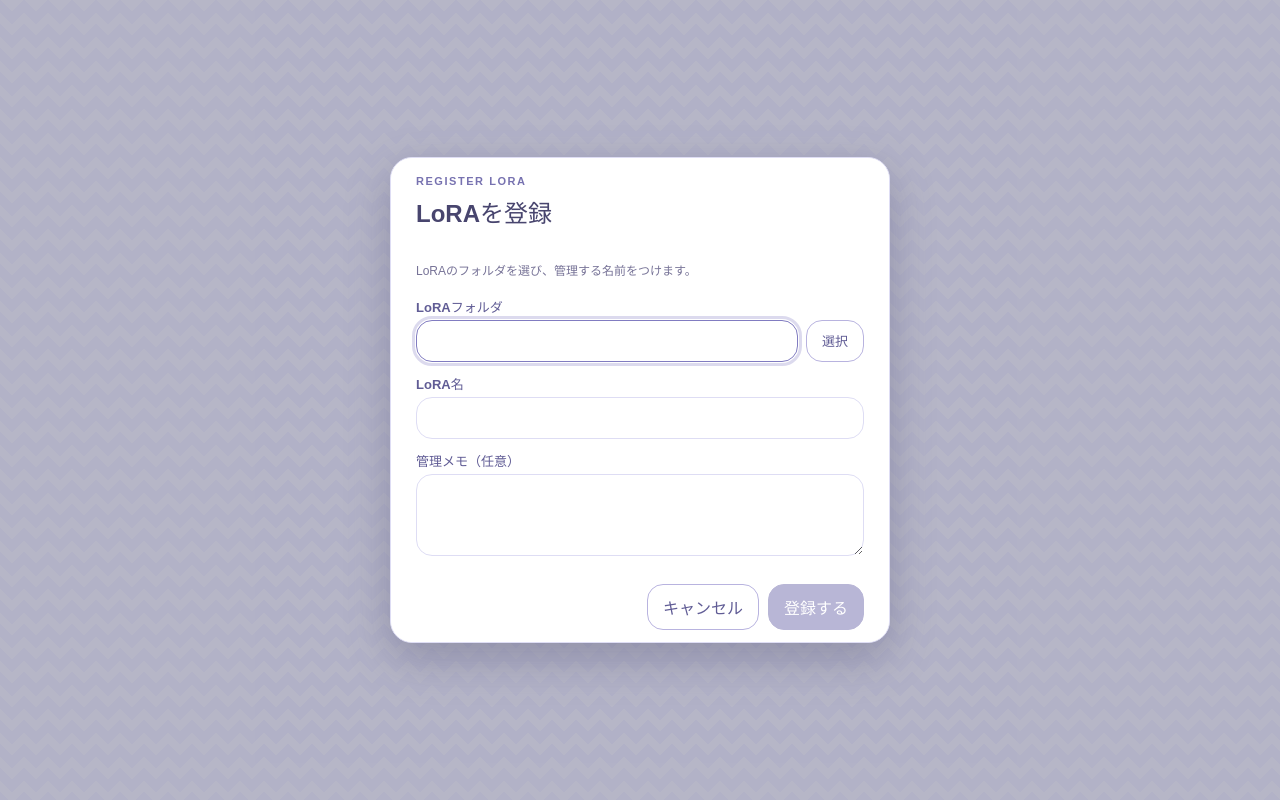
Test: keeps drafts after validation failure and permits cancellation or retry
The width and height of the screenshot is (1280, 800).
Type "/local/adapter" into the field labelled "LoRAフォルダ" at [607, 341], box [416,320,798,362]
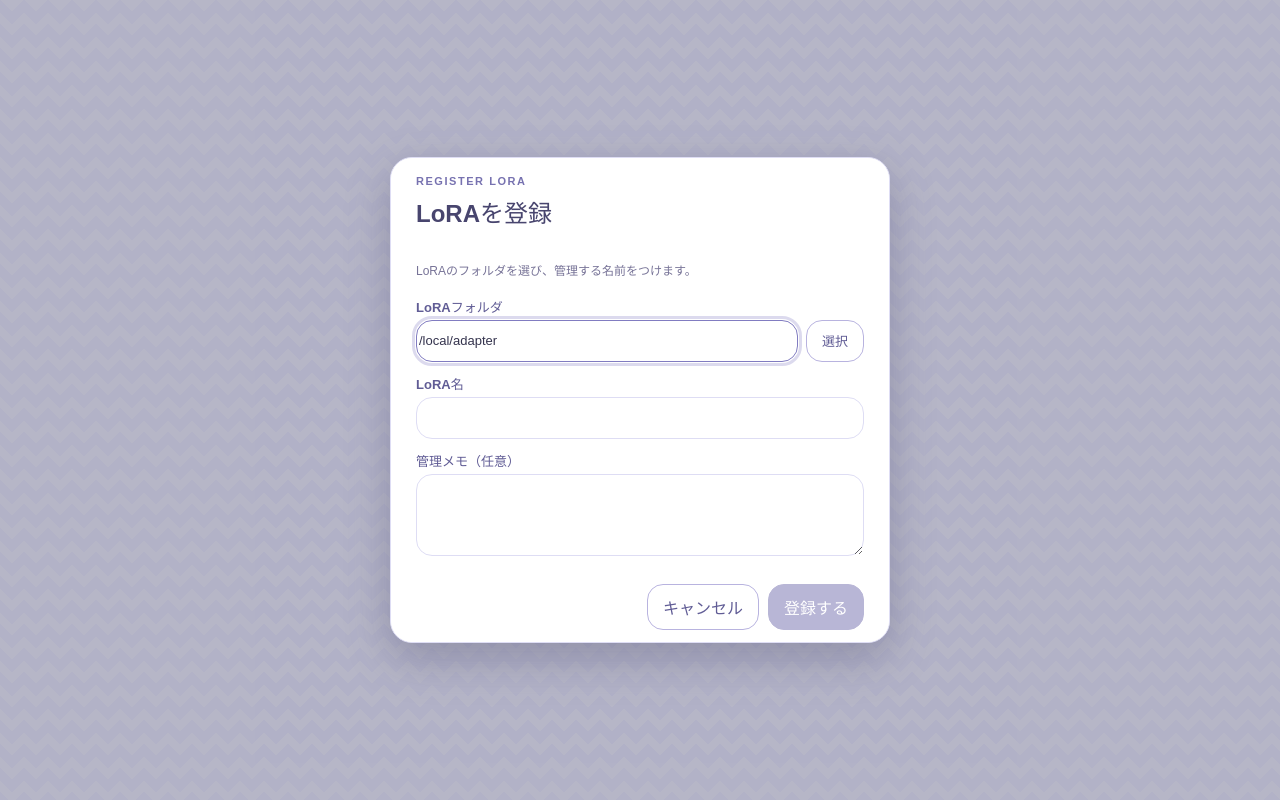
Type "声" into the field labelled "LoRA名" at [640, 418], box [416,397,864,439]
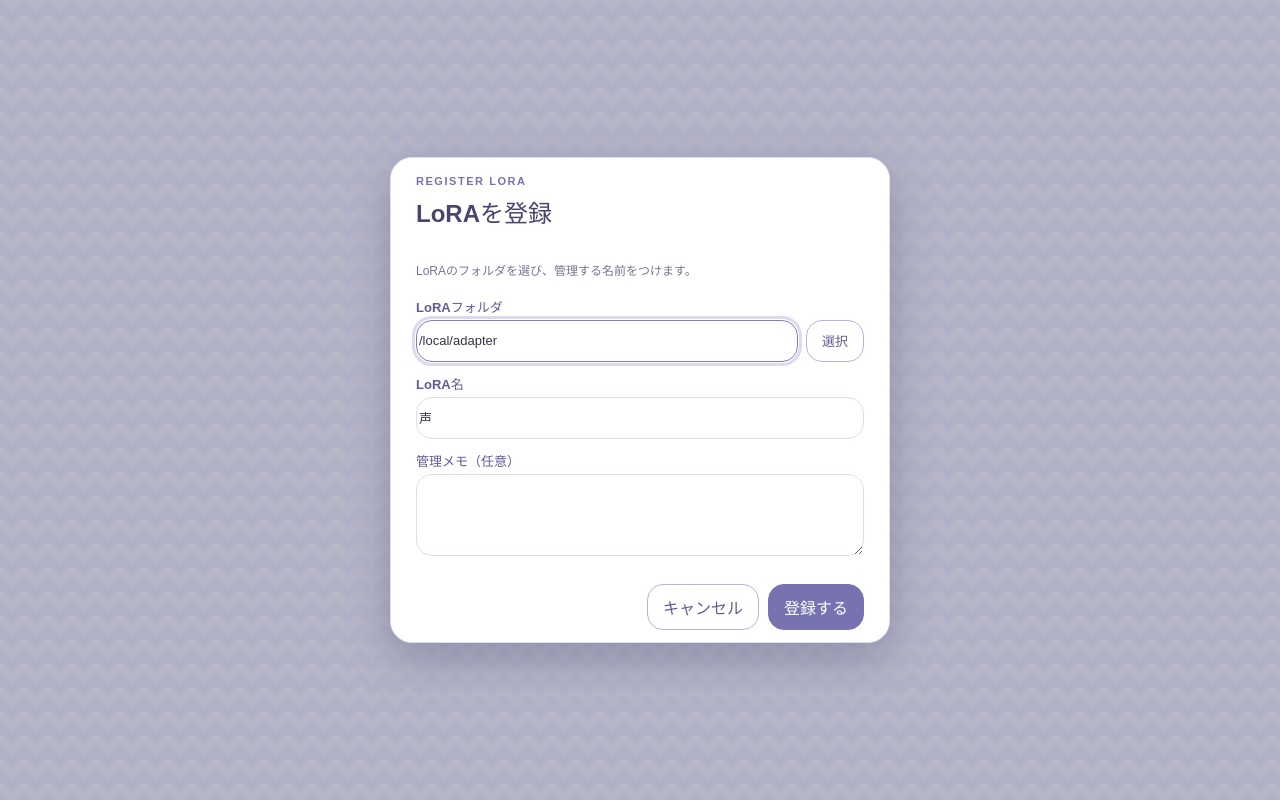
Click the button "登録する" at [816, 607], box [768,584,864,630]
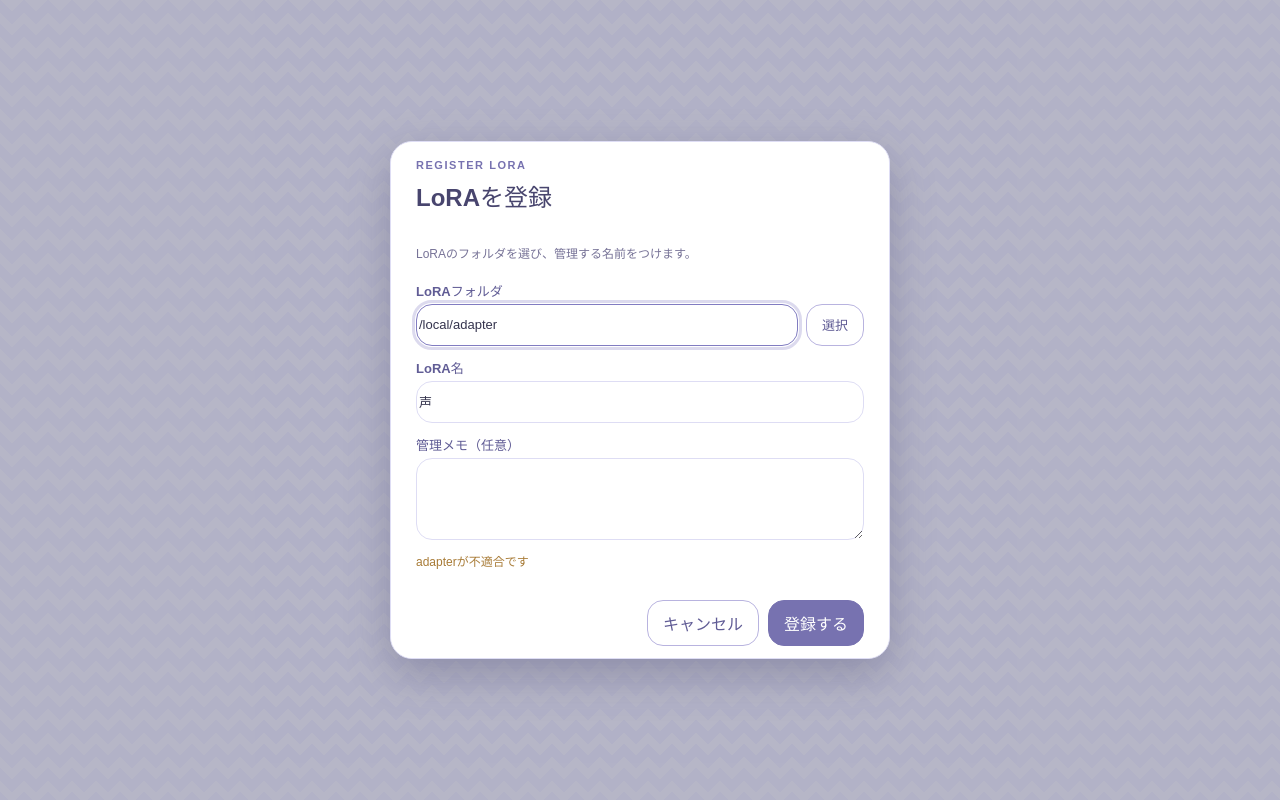
Check: the button "キャンセル" is enabled, box [647,600,759,646]
Check: the message shows "不適合", box [416,555,529,569]
Click the button "登録する" at [816, 623], box [768,600,864,646]
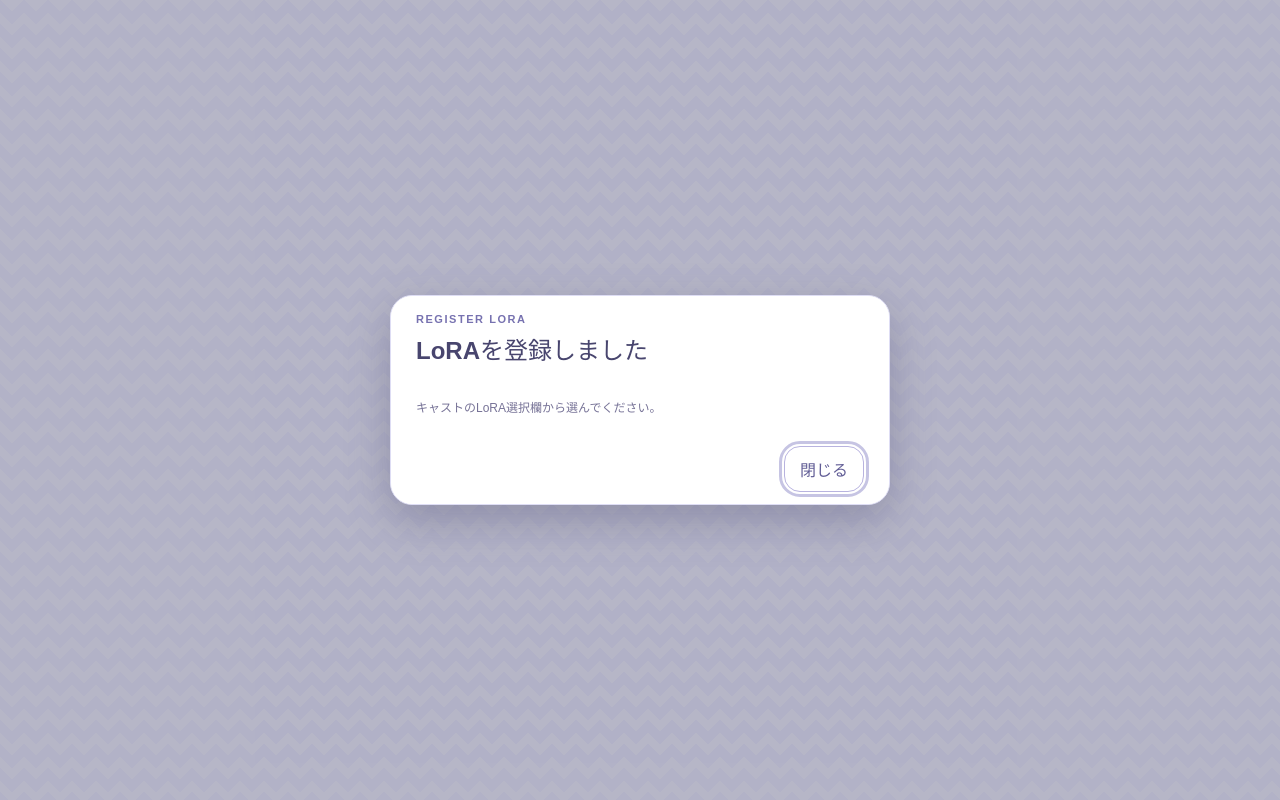
Check: the heading "LoRAを登録しました" is shown, box [416,331,648,366]
